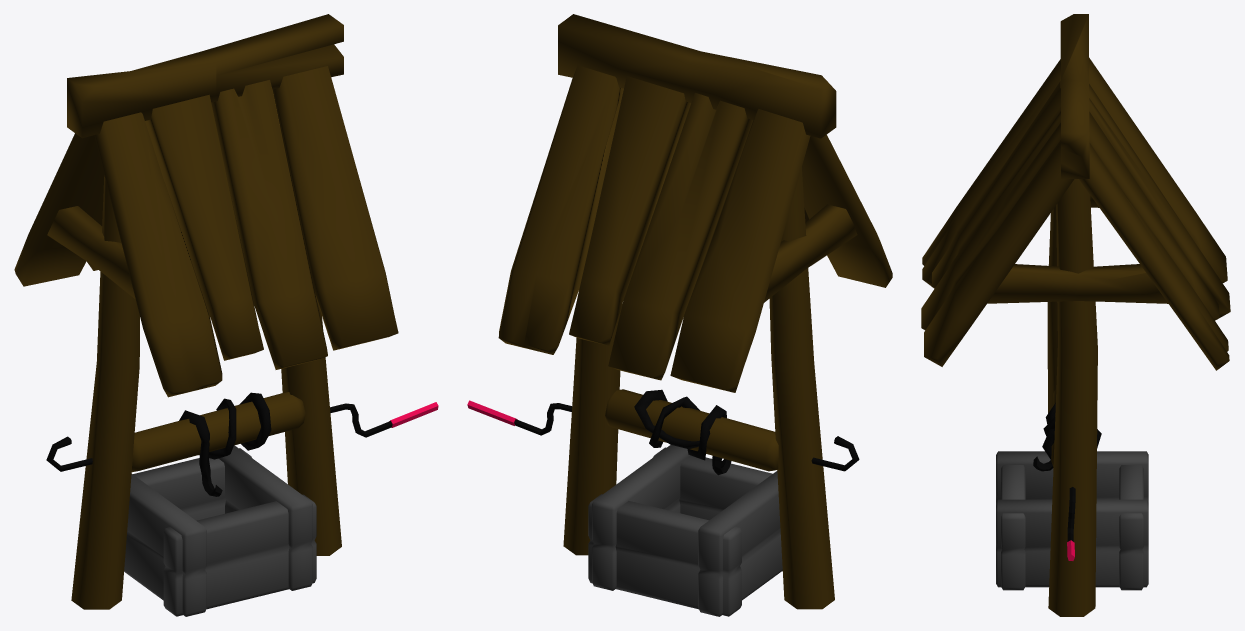
File: SM_WellWithHandle.fbx
3 views of the same model, side by side, from view 1: azimuth 30°, elevation 25°; view 2: azimuth 150°, elevation 25°; view 3: azimuth 270°, elevation 25° (orthographic). The views are drawn at different scales.
Visible parts, largest first — view 1: SM_WellWood, SM_WellBase, SM_WellRope; view 2: SM_WellWood, SM_WellBase, SM_WellRope; view 3: SM_WellWood, SM_WellBase, SM_WellRope.
Part boxes in pixels (<box>): SM_WellWood: <box>14,14,398,609</box>; SM_WellBase: <box>124,445,316,616</box>; SM_WellRope: <box>46,392,271,496</box>; SM_WellWood: <box>498,14,892,609</box>; SM_WellBase: <box>588,445,782,616</box>; SM_WellRope: <box>634,389,859,475</box>; SM_WellWood: <box>921,14,1230,616</box>; SM_WellBase: <box>996,451,1148,590</box>; SM_WellRope: <box>1033,403,1101,471</box>.
Bounding box in the file's own units: 289 × 371 × 214.
